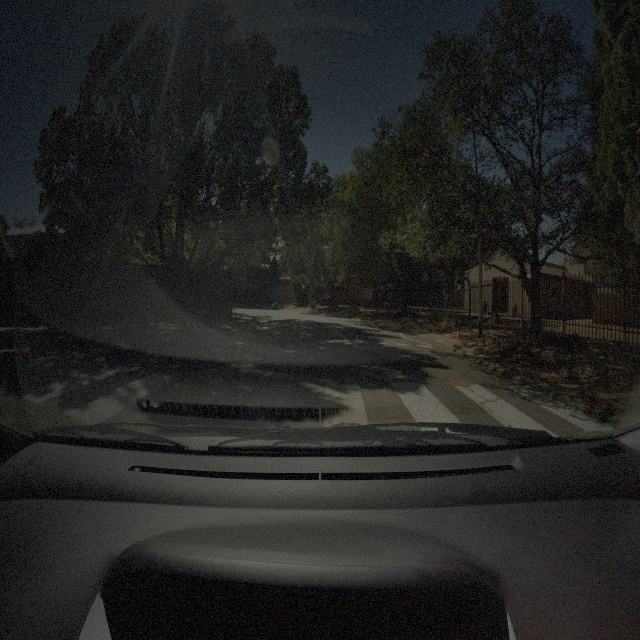pothole: (441, 377, 472, 390)
